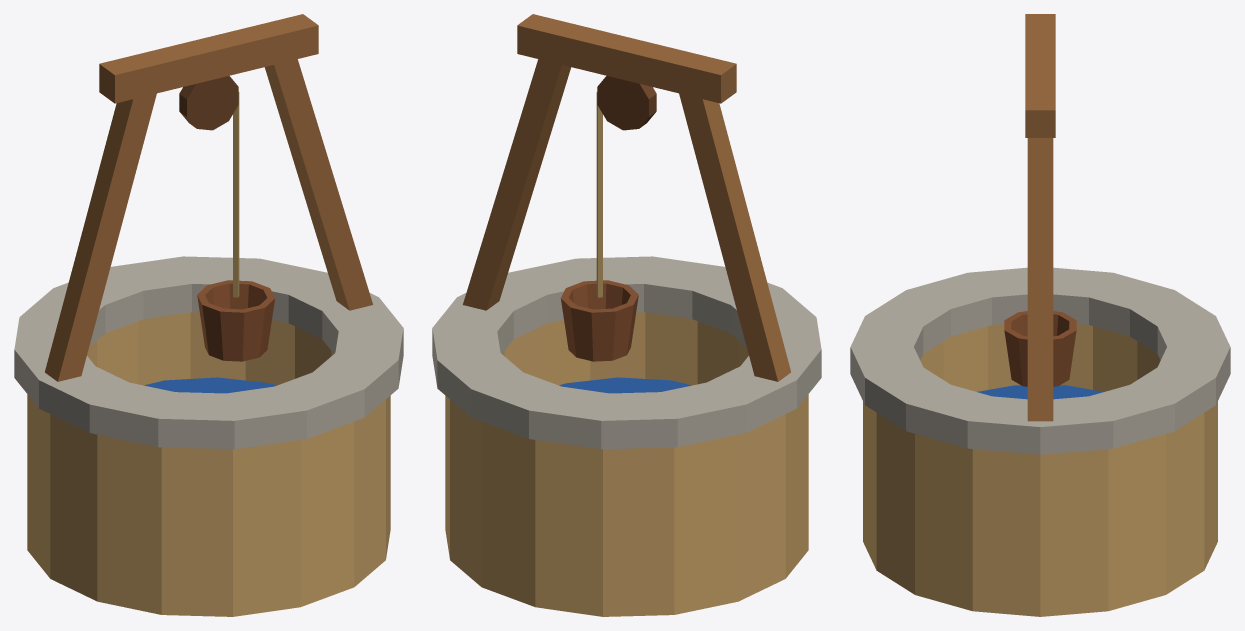
The model's file is desert-well.glb.
The picture shows the model from 3 angles, left to right: view 1: azimuth 30°, elevation 25°; view 2: azimuth 150°, elevation 25°; view 3: azimuth 270°, elevation 25°; orthographic projection. The views are drawn at different scales.
Visible parts, largest first — view 1: Well wall, Well rim, Well frame, Well bucket, Well pulley, Well water, Well rope; view 2: Well wall, Well rim, Well frame, Well bucket, Well pulley, Well water, Well rope; view 3: Well wall, Well rim, Well frame, Well bucket, Well water.
Boxes of the visible parts, x1,y1,x2,y2 form: Well wall: [27, 312, 390, 616]; Well rim: [14, 256, 403, 449]; Well frame: [45, 14, 372, 381]; Well bucket: [197, 280, 275, 361]; Well pulley: [179, 75, 238, 130]; Well water: [144, 377, 276, 393]; Well rope: [233, 92, 239, 297]; Well wall: [445, 312, 808, 616]; Well rim: [432, 256, 821, 449]; Well frame: [463, 14, 790, 381]; Well bucket: [560, 280, 638, 361]; Well pulley: [597, 75, 656, 130]; Well water: [559, 377, 691, 393]; Well rope: [596, 92, 602, 297]; Well wall: [863, 324, 1217, 616]; Well rim: [850, 267, 1230, 454]; Well frame: [1025, 14, 1055, 421]; Well bucket: [1004, 311, 1076, 386]; Well water: [977, 385, 1103, 399].
Bounding box in the file's own units: 1.5 × 2.09 × 1.5.
